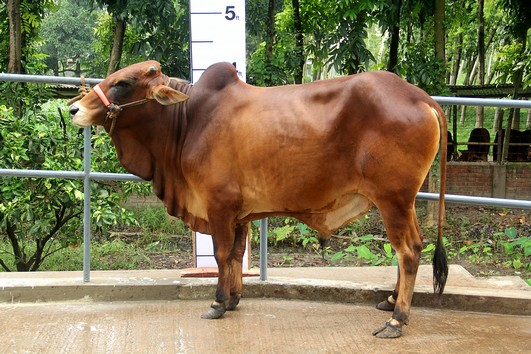cow: (65, 52, 453, 339)
